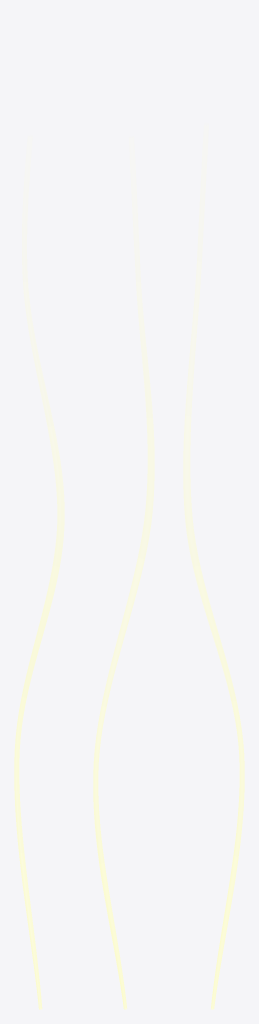
File: strand_a_junction.glb
3 renders of one model, left to right at view 1: azimuth 90°, elevation 25°; view 2: azimuth 150°, elevation 25°; view 3: azimuth 330°, elevation 25°, orthographic.
Bounding box in the file's own units: 0.3251 × 7 × 0.3223.
